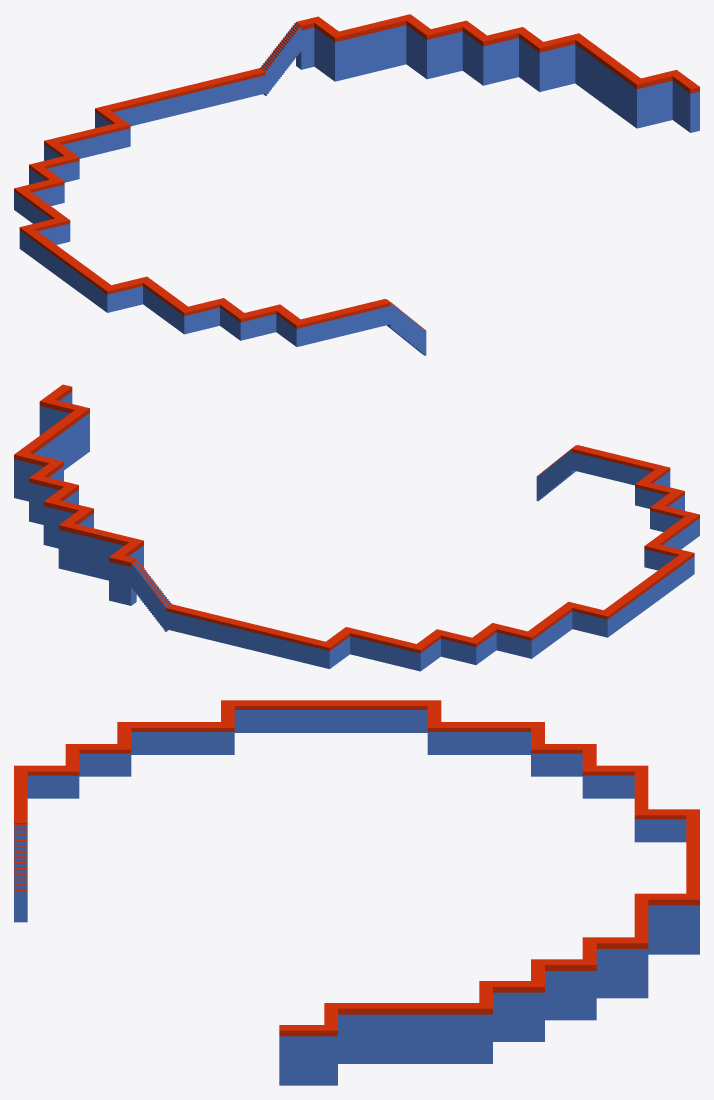
File: labyrinth1.fbx
The picture shows the model from 3 angles, top to bottom: view 1: azimuth 30°, elevation 25°; view 2: azimuth 150°, elevation 25°; view 3: azimuth 270°, elevation 25°; orthographic projection. The views are drawn at different scales.
Parts seen in each view (by area): view 1: geo1.002; view 2: geo1.002; view 3: geo1.002.
Boxes of the visible parts, x1,y1,x2,y2 form: geo1.002: [14, 14, 699, 355]; geo1.002: [14, 384, 699, 671]; geo1.002: [14, 700, 699, 1085].
Size of the model in its own units: 1295 by 198 by 995.
